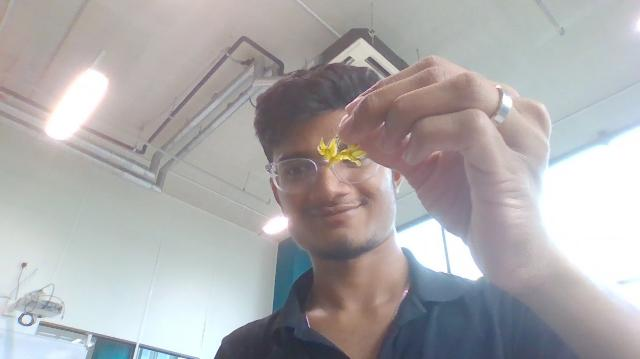Anthesis: (339, 144, 366, 165), (317, 137, 338, 163)
